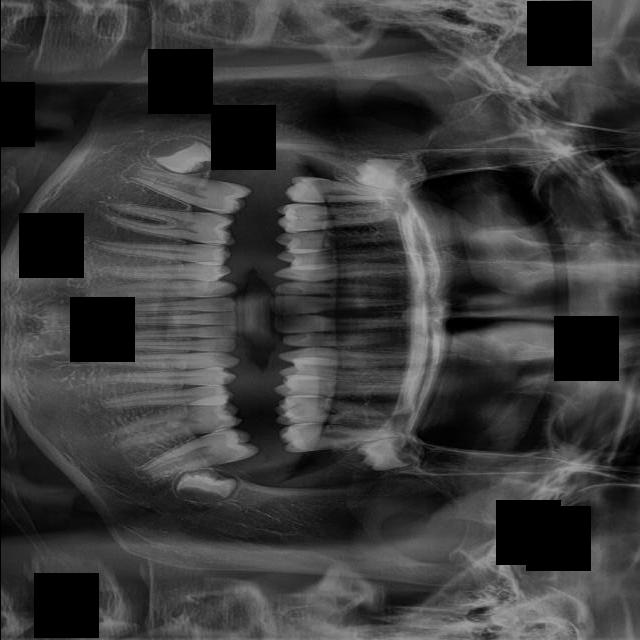Sterngold Implant: (289, 402, 301, 418), (290, 214, 302, 227), (292, 315, 310, 319)
